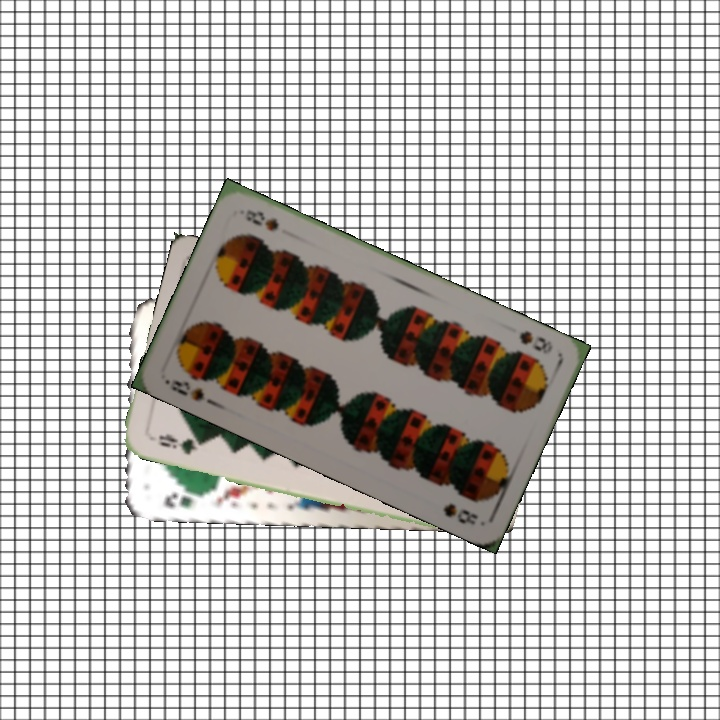G9: (154, 429, 206, 457)
GK: (158, 487, 205, 511)
S8: (161, 375, 207, 404), (515, 326, 556, 357)
